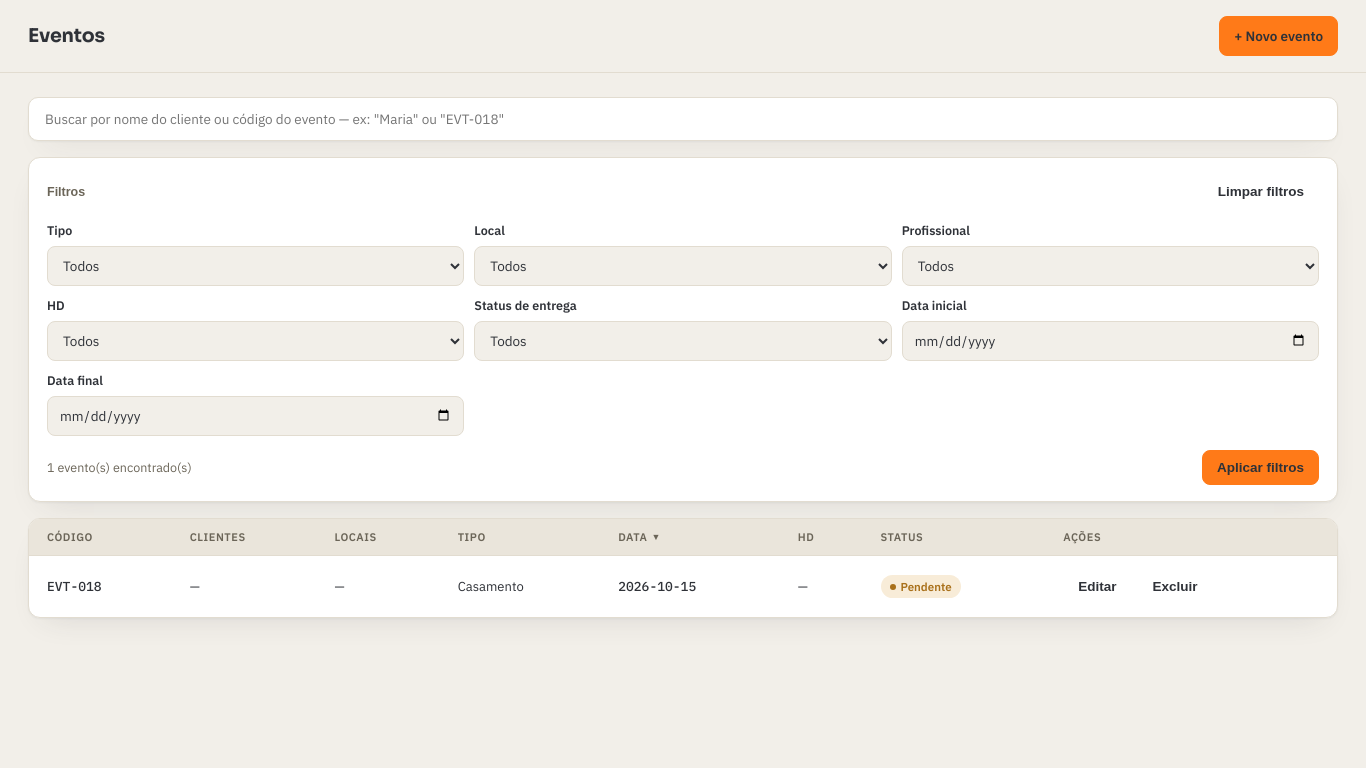
Test: EventsPage › limpar filtros reseta o texto livre, os filtros estruturados e busca tudo de novo
Expected: the dropdown labelled "Status de entrega" is shown, x1=474 y1=321 x2=892 y2=361
In the field labelled "Buscar por nome do cliente ou código do evento": (683, 119) x1=43 y1=109 x2=1323 y2=129, type "maria"
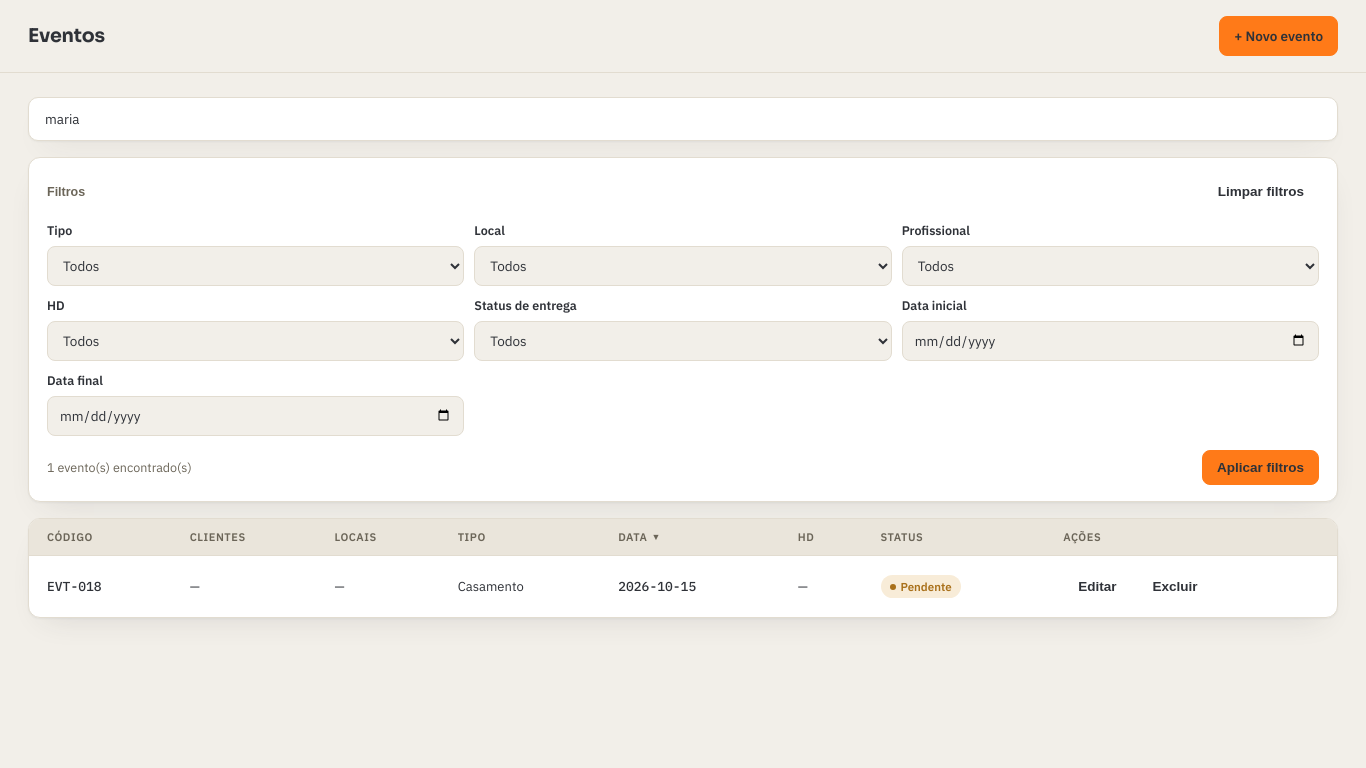
Select "Entregue" in the dropdown labelled "Status de entrega": (683, 341) x1=474 y1=321 x2=892 y2=361
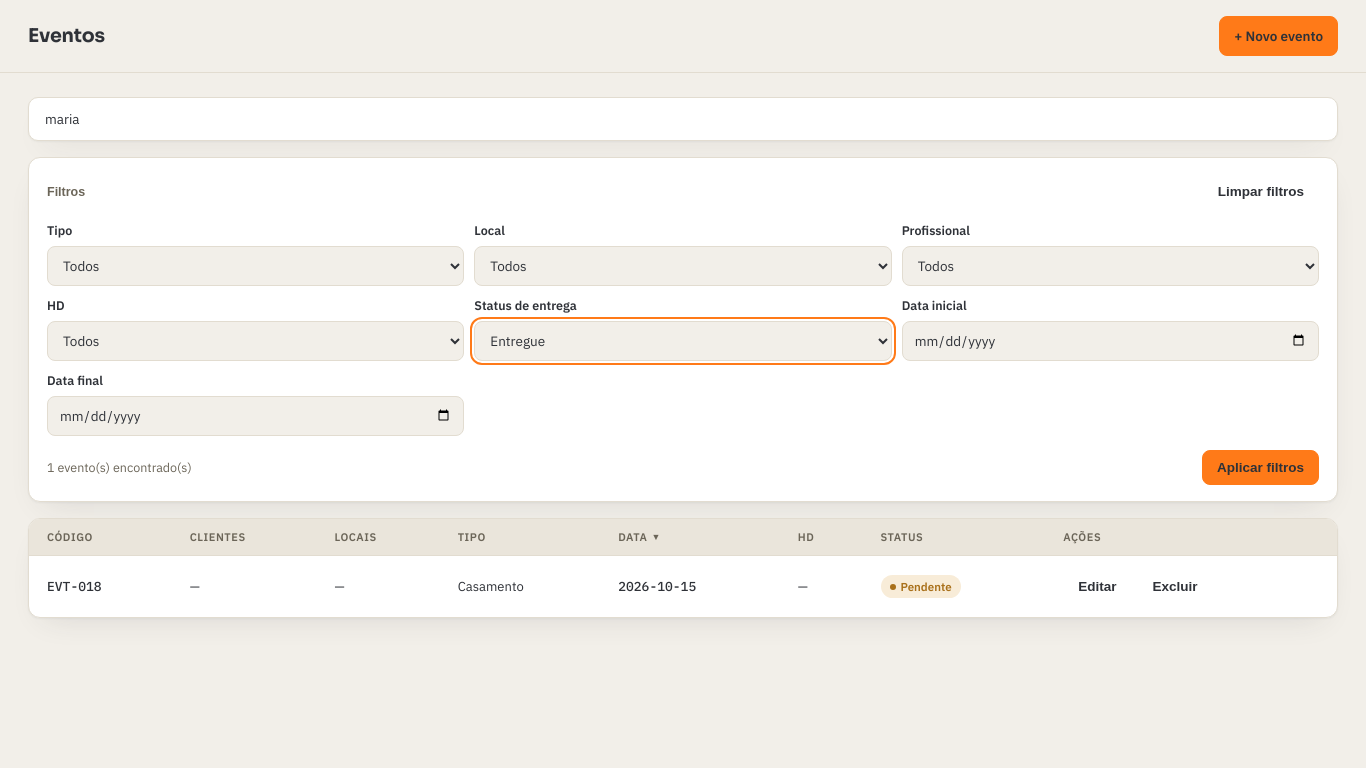
Click the button "Limpar filtros": (1261, 192) x1=1203 y1=174 x2=1319 y2=209
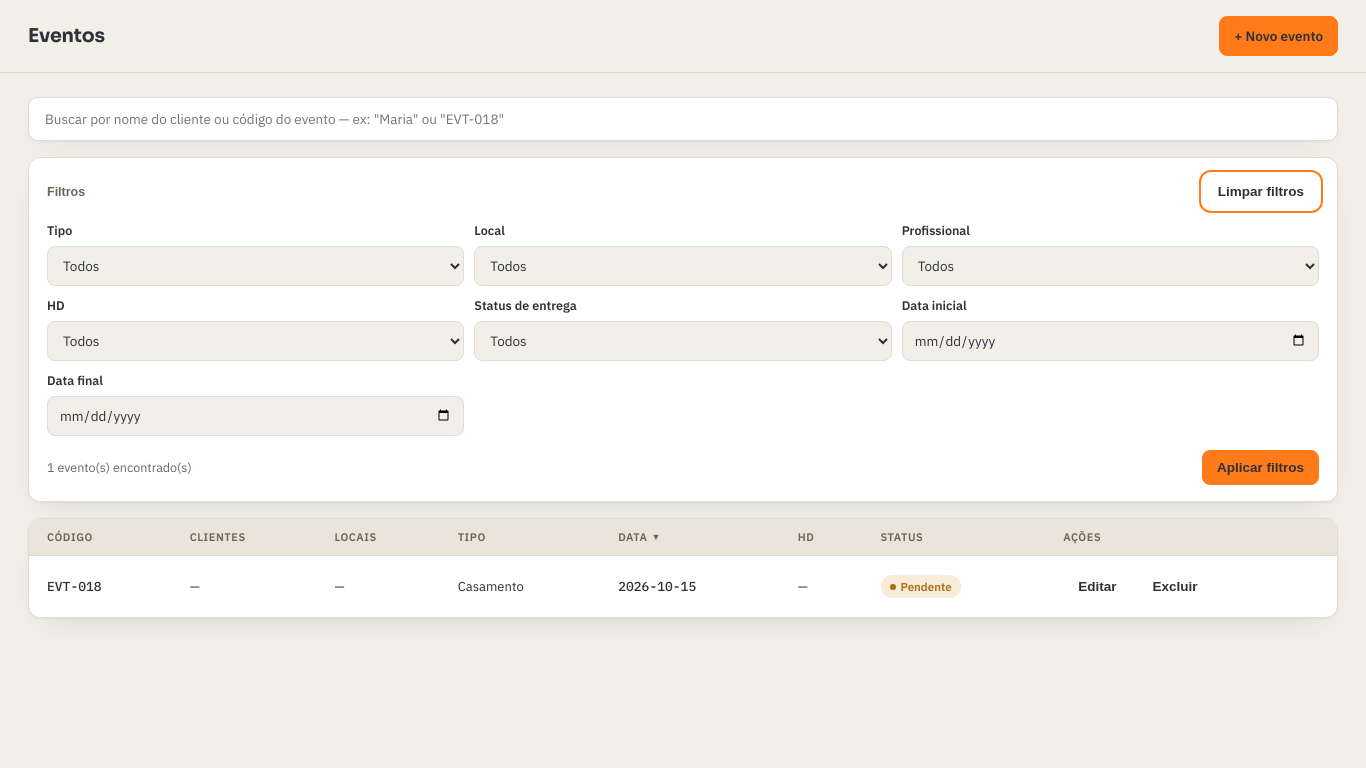
Expected: the field labelled "Buscar por nome do cliente ou código do evento" is empty, x1=43 y1=109 x2=1323 y2=129
